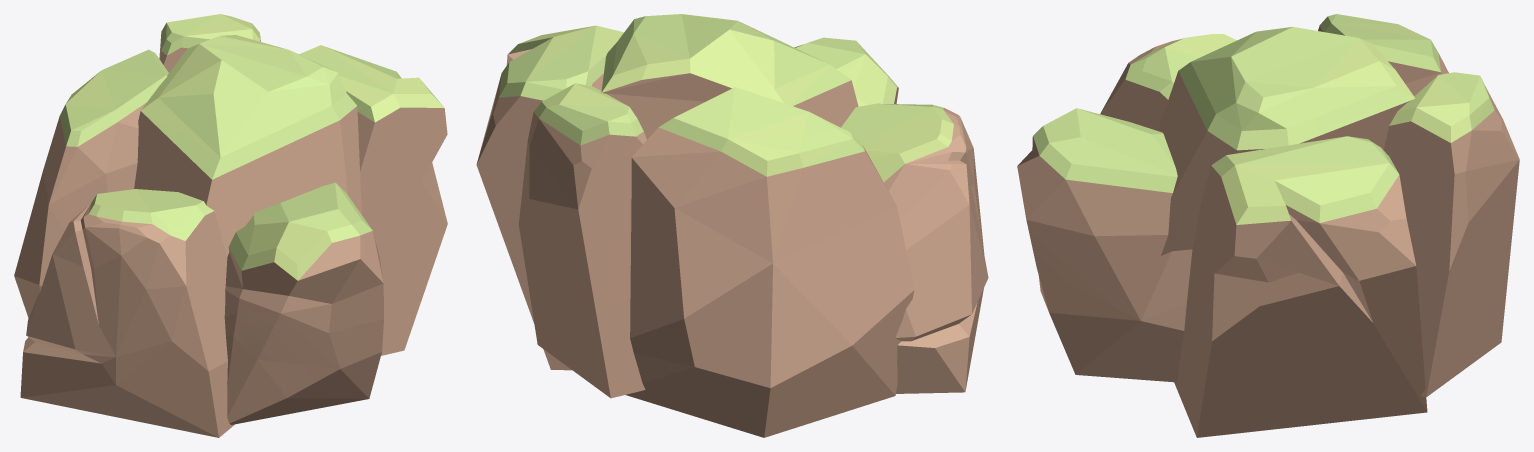
Rendered from rock_pile_forest_moss_10.glb.
3 renders of one model, left to right at view 1: azimuth 30°, elevation 25°; view 2: azimuth 150°, elevation 25°; view 3: azimuth 270°, elevation 25°, orthographic. The views are drawn at different scales.
Visible parts, largest first — view 1: PP_Rock_Pile_Forest_Moss_10.002; view 2: PP_Rock_Pile_Forest_Moss_10.002; view 3: PP_Rock_Pile_Forest_Moss_10.002.
Boxes of the visible parts, x1,y1,x2,y2 form: PP_Rock_Pile_Forest_Moss_10.002: (14,14,447,437); PP_Rock_Pile_Forest_Moss_10.002: (476,14,988,437); PP_Rock_Pile_Forest_Moss_10.002: (1017,14,1519,437).
Bounding box in the file's own units: 2.13 × 1.46 × 1.99.
